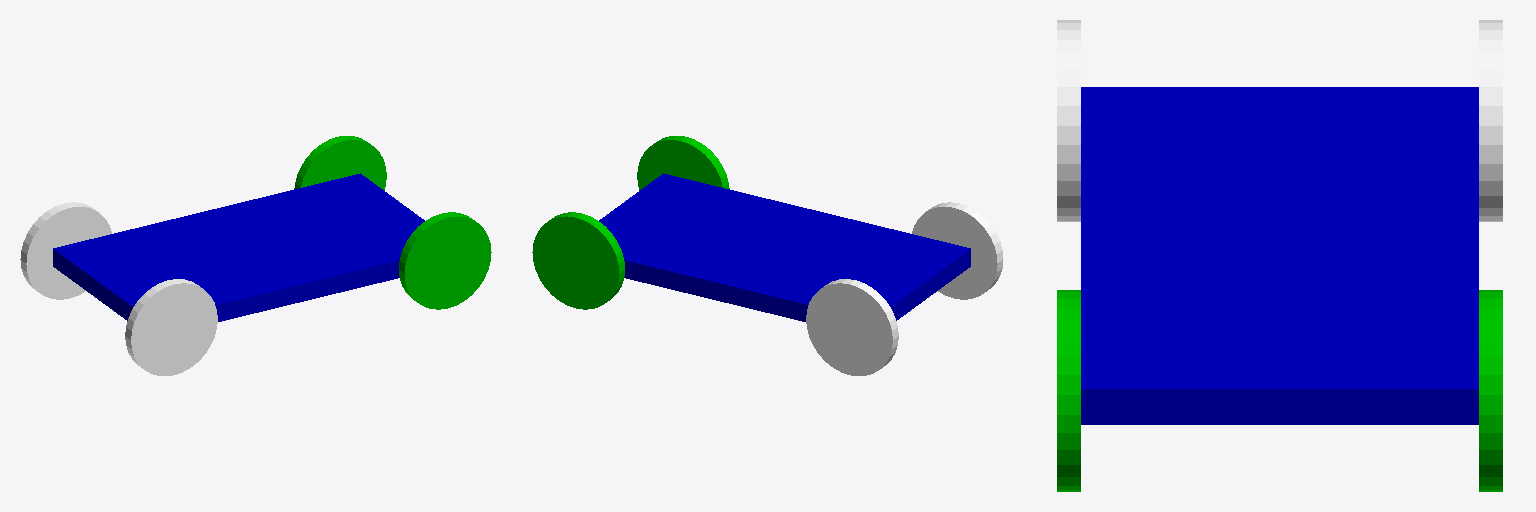
The robot description file, URDF, robot "porter":
<?xml version="1.0" encoding="utf-8"?>
<!-- =================================================================================== -->
<!-- |    This document was autogenerated by xacro from model.xacro                    | -->
<!-- |    EDITING THIS FILE BY HAND IS NOT RECOMMENDED                                 | -->
<!-- =================================================================================== -->
<robot name="porter" xmlns:xacro="http://www.ros.org/wiki/xacro">
  <!-- Material block -->
  <material name="blue">
    <color rgba="0 0 0.8 1"/>
  </material>
  <material name="white">
    <color rgba="1 1 1 1"/>
  </material>
  <material name="green">
    <color rgba="0 0.8 0 1"/>
  </material>
  <!-- Here actual model begins -->
  <link name="chasiss">
    <visual>
      <geometry>
        <box size="0.9 0.5 0.05"/>
      </geometry>
      <material name="blue"/>
    </visual>
    <collision>
      <geometry>
        <box size="0.9 0.5 0.05"/>
      </geometry>
    </collision>
    <inertial>
      <mass value="4"/>
      <inertia ixx="0.0841666666667" ixy="0.0" ixz="0.0" iyy="0.270833333333" iyz="0.0" izz="0.353333333333"/>
    </inertial>
  </link>
  <link name="right_actuated_wheel">
    <visual>
      <geometry>
        <cylinder length="0.03" radius="0.127"/>
      </geometry>
      <origin rpy="1.57075 0 0" xyz="0 0 0"/>
      <material name="green"/>
    </visual>
    <collision>
      <geometry>
        <cylinder length="0.03" radius="0.127"/>
      </geometry>
    </collision>
    <inertial>
      <mass value="1"/>
      <inertia ixx="0.00410725" ixy="0.0" ixz="0.0" iyy="0.0080645" iyz="0.0" izz="0.00410725"/>
    </inertial>
  </link>
  <joint name="chasiss_to_right_actuated_wheel" type="continuous">
    <parent link="chasiss"/>
    <child link="right_actuated_wheel"/>
    <axis xyz="0 1 0"/>
    <origin xyz="0.4 -0.265 0"/>
  </joint>
  <link name="left_actuated_wheel">
    <visual>
      <geometry>
        <cylinder length="0.03" radius="0.127"/>
      </geometry>
      <origin rpy="1.57075 0 0" xyz="0 0 0"/>
      <material name="green"/>
    </visual>
    <collision>
      <geometry>
        <cylinder length="0.03" radius="0.127"/>
      </geometry>
    </collision>
    <inertial>
      <mass value="1"/>
      <inertia ixx="0.00410725" ixy="0.0" ixz="0.0" iyy="0.0080645" iyz="0.0" izz="0.00410725"/>
    </inertial>
  </link>
  <joint name="chasiss_to_left_actuated_wheel" type="continuous">
    <parent link="chasiss"/>
    <child link="left_actuated_wheel"/>
    <axis xyz="0 1 0"/>
    <origin xyz="0.4 0.265 0"/>
  </joint>
  <link name="right_free_wheel">
    <visual>
      <geometry>
        <cylinder length="0.03" radius="0.127"/>
      </geometry>
      <origin rpy="1.57075 0 0" xyz="0 0 0"/>
      <material name="white"/>
    </visual>
    <collision>
      <geometry>
        <cylinder length="0.03" radius="0.127"/>
      </geometry>
    </collision>
    <inertial>
      <mass value="1"/>
      <inertia ixx="0.00410725" ixy="0.0" ixz="0.0" iyy="0.0080645" iyz="0.0" izz="0.00410725"/>
    </inertial>
  </link>
  <joint name="chasiss_to_right_free_wheel" type="continuous">
    <parent link="chasiss"/>
    <child link="right_free_wheel"/>
    <axis xyz="0 1 0"/>
    <origin xyz="-0.4 -0.265 0"/>
  </joint>
  <link name="left_free_wheel">
    <visual>
      <geometry>
        <cylinder length="0.03" radius="0.127"/>
      </geometry>
      <origin rpy="1.57075 0 0" xyz="0 0 0"/>
      <material name="white"/>
    </visual>
    <collision>
      <geometry>
        <cylinder length="0.03" radius="0.127"/>
      </geometry>
    </collision>
    <inertial>
      <mass value="1"/>
      <inertia ixx="0.00410725" ixy="0.0" ixz="0.0" iyy="0.0080645" iyz="0.0" izz="0.00410725"/>
    </inertial>
  </link>
  <joint name="chasiss_to_left_free_wheel" type="continuous">
    <parent link="chasiss"/>
    <child link="left_free_wheel"/>
    <axis xyz="0 1 0"/>
    <origin xyz="-0.4 0.265 0"/>
  </joint>
</robot>

--- Facts derived from the render (not from the file) ---
Views: 3 orthographic renders of the robot side by side, from view 1: azimuth 30°, elevation 25°; view 2: azimuth 150°, elevation 25°; view 3: azimuth 270°, elevation 25°.
Robot: porter — 5 links, 4 joints (4 continuous); root link chasiss; default pose: every joint at zero.
Links seen in each view (by area): view 1: chasiss, right_free_wheel, right_actuated_wheel, left_free_wheel, left_actuated_wheel; view 2: chasiss, left_free_wheel, left_actuated_wheel, right_free_wheel, right_actuated_wheel; view 3: chasiss, right_actuated_wheel, left_actuated_wheel, right_free_wheel, left_free_wheel.
Link boxes in pixels (x1,y1,x2,y2): chasiss: (53, 173, 424, 321); right_free_wheel: (125, 279, 217, 375); right_actuated_wheel: (399, 212, 491, 309); left_free_wheel: (20, 202, 111, 299); left_actuated_wheel: (294, 136, 386, 190); chasiss: (599, 173, 970, 321); left_free_wheel: (806, 279, 898, 375); left_actuated_wheel: (532, 212, 624, 309); right_free_wheel: (912, 202, 1003, 299); right_actuated_wheel: (637, 136, 729, 190); chasiss: (1081, 87, 1478, 424); right_actuated_wheel: (1057, 290, 1080, 491); left_actuated_wheel: (1479, 290, 1502, 491); right_free_wheel: (1057, 20, 1080, 221); left_free_wheel: (1479, 20, 1502, 221).
Size in the robot's own frame: 1.05 by 0.56 by 0.254 metres.
Geometry: primitives only (box / cylinder / sphere), no mesh files.